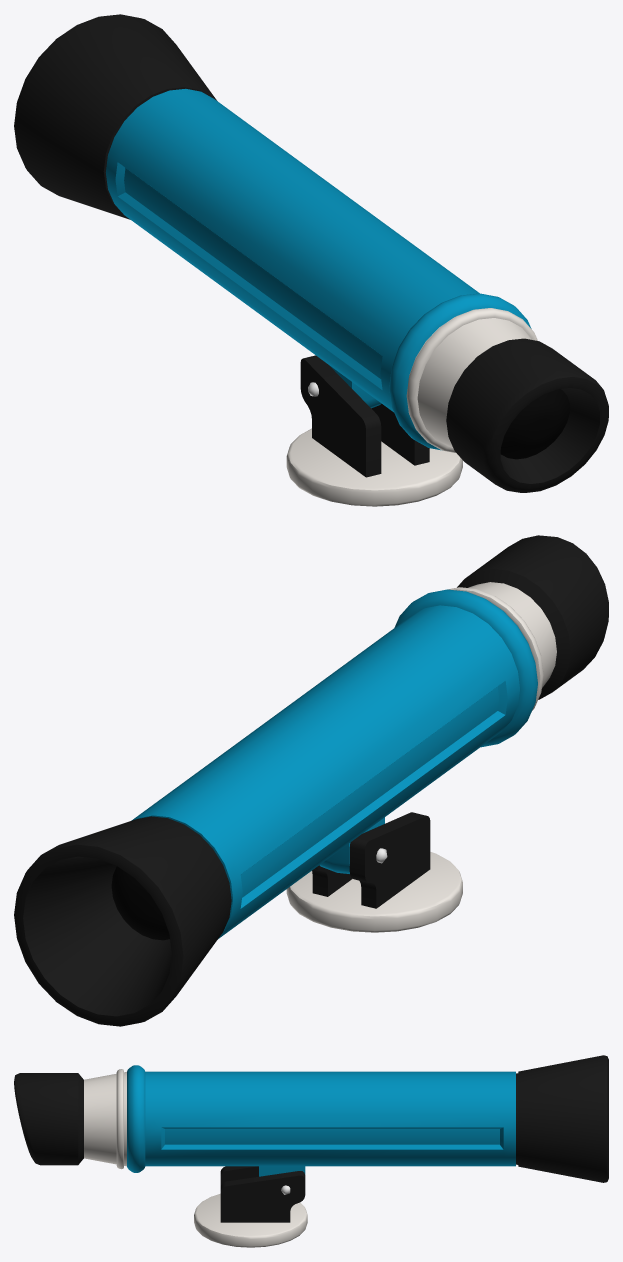
File: SSC.e27269ba.glb
3 renders of one model, top to bottom at view 1: azimuth 30°, elevation 25°; view 2: azimuth 150°, elevation 25°; view 3: azimuth 270°, elevation 25°, orthographic. The views are drawn at different scales.
Parts seen in each view (by area): view 1: Circle010,_colorize_, Circle010_2, Circle010_3, Circle010_1; view 2: Circle010,_colorize_, Circle010_2, Circle010_3, Circle010_1; view 3: Circle010,_colorize_, Circle010_2, Circle010_3.
Part boxes in pixels (box(x1,y1,x2,y2)): Circle010,_colorize_: box(105, 88, 531, 450); Circle010_2: box(14, 14, 608, 492); Circle010_3: box(286, 308, 537, 506); Circle010_1: box(500, 389, 569, 459); Circle010,_colorize_: box(131, 589, 537, 938); Circle010_2: box(14, 535, 608, 1026); Circle010_3: box(286, 582, 556, 932); Circle010_1: box(111, 866, 169, 940); Circle010,_colorize_: box(127, 1065, 515, 1176); Circle010_2: box(14, 1055, 608, 1222); Circle010_3: box(84, 1069, 307, 1247).
Size of the model in its own units: 0.0709 by 0.0999 by 0.3292.
